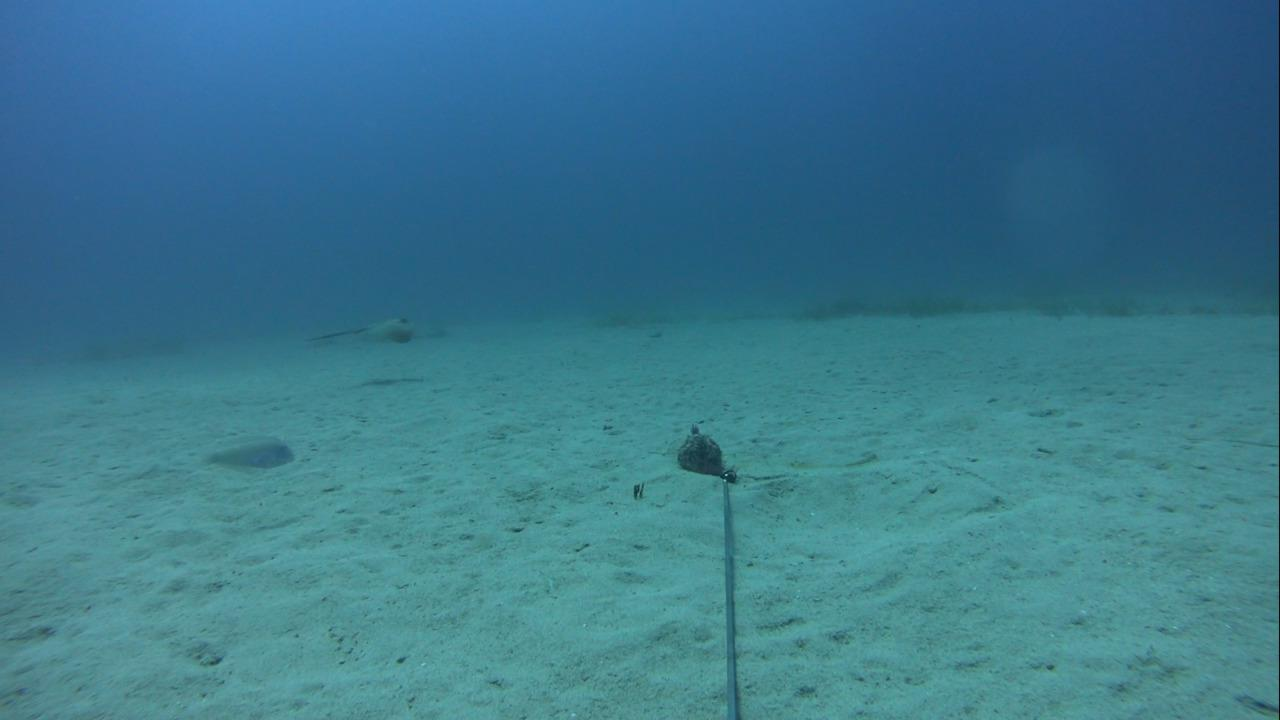myliobatis: (299, 309, 421, 360)
raor: (191, 436, 299, 475)
